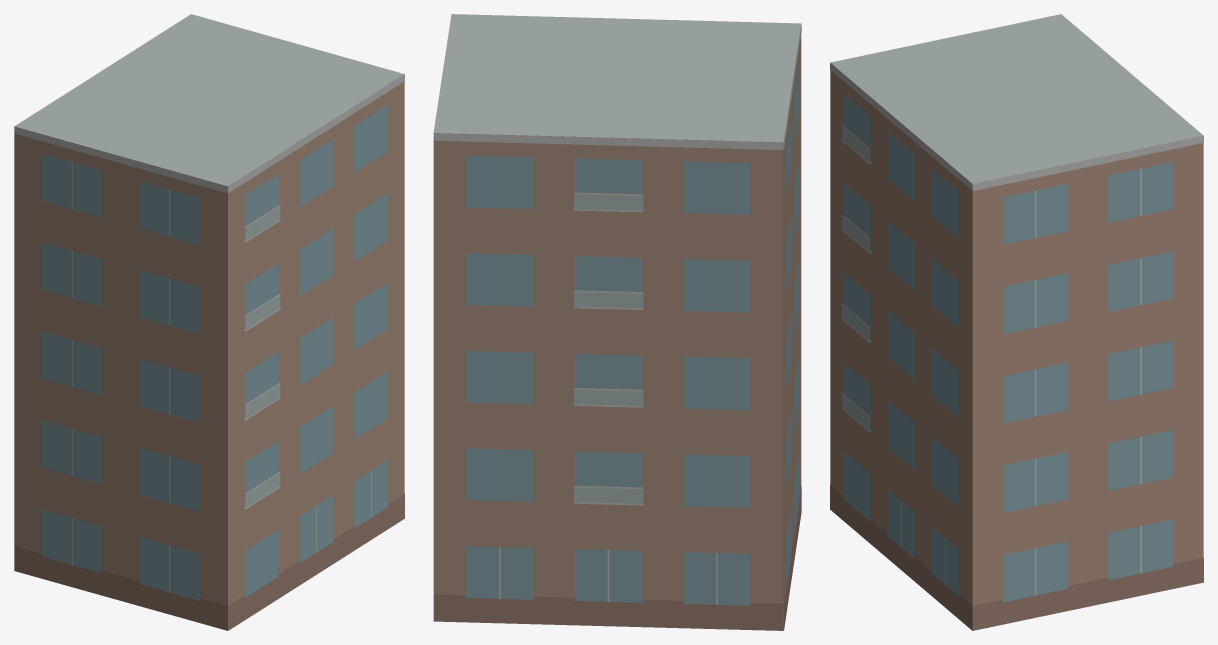
Rendered from residential-10534f16-1eec-4faf-90d7-7d87f85df389.glb.
3 renders of one model, left to right at view 1: azimuth 30°, elevation 25°; view 2: azimuth 150°, elevation 25°; view 3: azimuth 270°, elevation 25°, orthographic. The views are drawn at different scales.
Visible parts, largest first — view 1: residential-10534f16-1eec-4faf-90d7-7d87f85df389.tmp; view 2: residential-10534f16-1eec-4faf-90d7-7d87f85df389.tmp; view 3: residential-10534f16-1eec-4faf-90d7-7d87f85df389.tmp.
Part boxes in pixels (box(x1,y1,x2,y2)): residential-10534f16-1eec-4faf-90d7-7d87f85df389.tmp: box(14, 14, 404, 630); residential-10534f16-1eec-4faf-90d7-7d87f85df389.tmp: box(433, 14, 801, 630); residential-10534f16-1eec-4faf-90d7-7d87f85df389.tmp: box(830, 14, 1203, 630).
Size of the model in its own units: 12.45 by 15.25 by 11.57.
